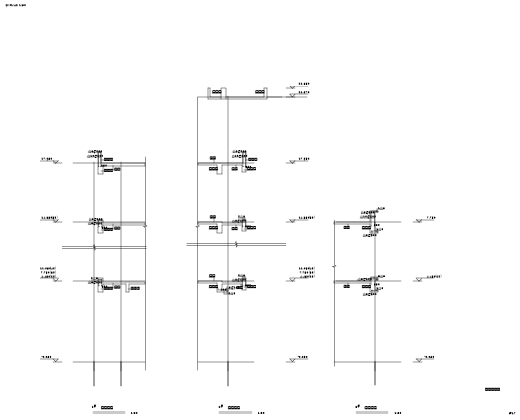door: (138, 244, 193, 249)
room: (43, 55, 138, 321)
wall: (205, 56, 210, 406), (193, 216, 324, 221), (193, 213, 324, 218), (436, 240, 444, 260), (238, 406, 245, 417), (234, 157, 247, 162), (436, 165, 444, 173), (97, 161, 103, 167), (77, 164, 81, 173), (97, 237, 103, 243), (77, 239, 81, 248), (97, 312, 103, 318), (259, 161, 265, 167), (223, 170, 229, 176), (253, 236, 259, 242), (224, 245, 230, 251), (400, 162, 406, 168), (245, 158, 256, 161), (253, 313, 259, 318), (224, 321, 230, 326), (400, 238, 406, 243), (267, 164, 270, 173), (267, 239, 270, 248)
